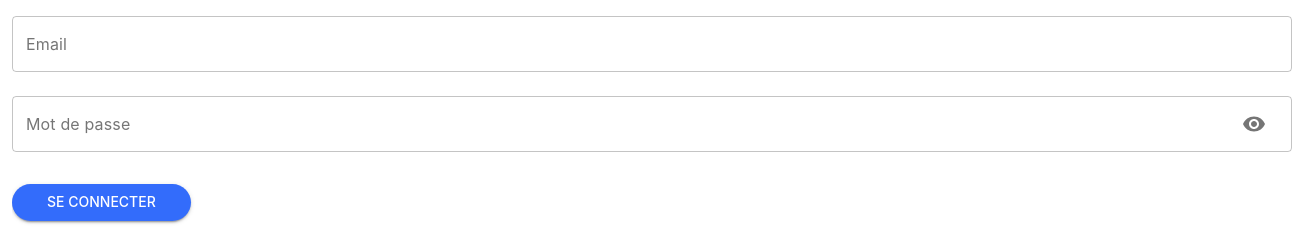
Test: Container: LoginForm › display an email and a readable password
In the field named "email": (652, 44) [12,16,1292,72], type "IAmAnEmail"
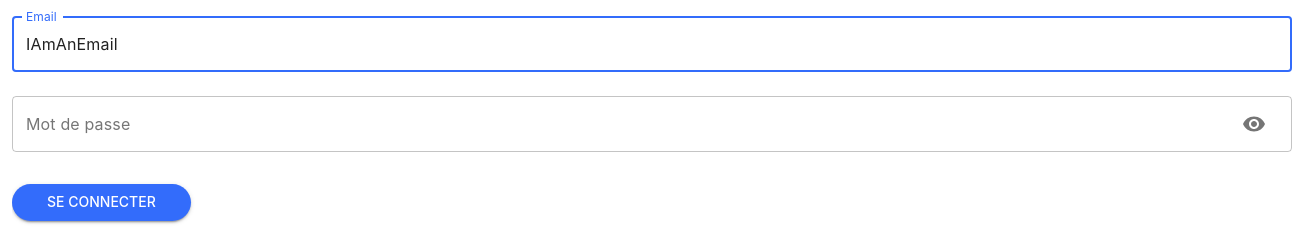
In the password field labelled "Mot de passe": (617, 124) [12,96,1222,152], type "IAmAPassword"
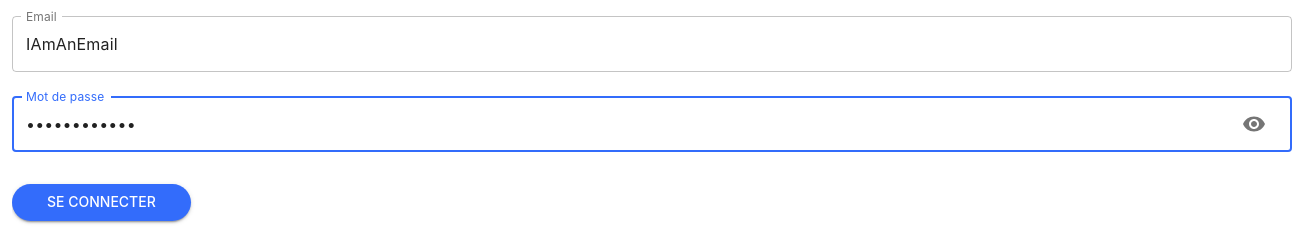
Click the button named "toggle password visibility": click(1254, 124) [1230,100,1278,148]
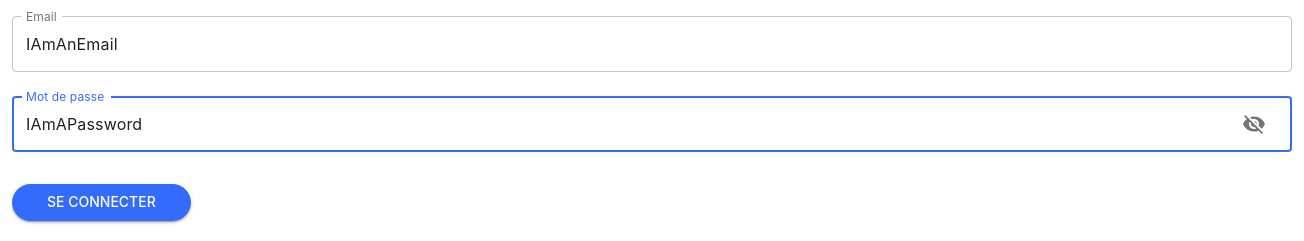
Expected: the field showing "IAmAPassword" shows its text, [12,96,1222,152]
